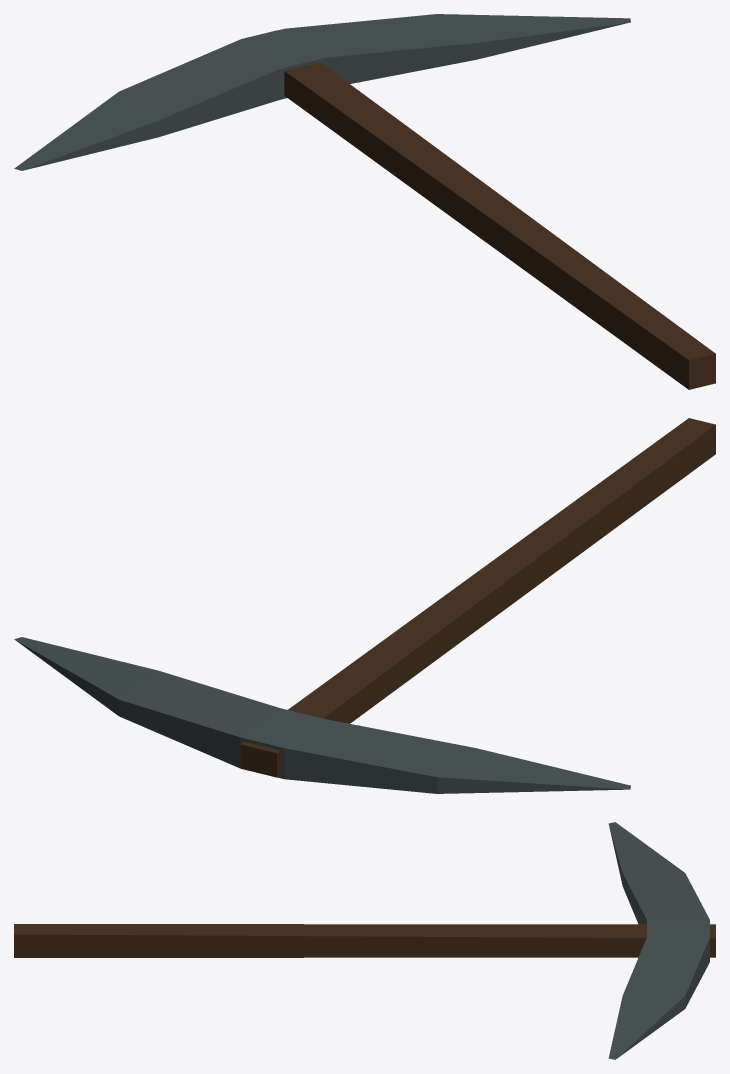
Rendered from Pickaxe_1_Dark_Brown.fbx.
The picture shows the model from 3 angles, top to bottom: view 1: azimuth 30°, elevation 25°; view 2: azimuth 150°, elevation 25°; view 3: azimuth 270°, elevation 25°; orthographic projection. The views are drawn at different scales.
Visible parts, largest first — view 1: Pickaxe_1_Dark_Brown; view 2: Pickaxe_1_Dark_Brown; view 3: Pickaxe_1_Dark_Brown.
Part boxes in pixels (box(x1,y1,x2,y2)): Pickaxe_1_Dark_Brown: box(14, 14, 715, 389); Pickaxe_1_Dark_Brown: box(14, 418, 715, 793); Pickaxe_1_Dark_Brown: box(14, 822, 715, 1059).
Bounding box in the file's own units: 76.91 × 3.71 × 95.91.
